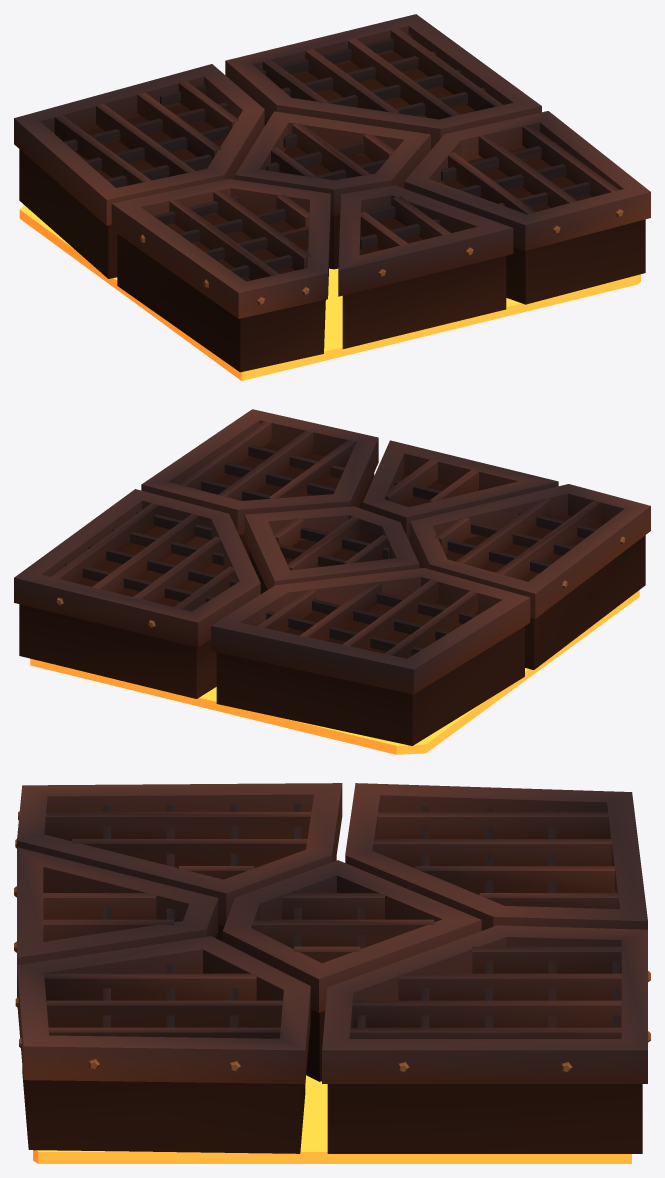
File: crumble_forge.glb
3 renders of one model, top to bottom at view 1: azimuth 30°, elevation 25°; view 2: azimuth 150°, elevation 25°; view 3: azimuth 270°, elevation 25°, orthographic. The views are drawn at different scales.
Parts seen in each view (by area): view 1: crumble_forge; view 2: crumble_forge; view 3: crumble_forge.
Boxes of the visible parts, x1,y1,x2,y2 form: crumble_forge: (14, 14, 650, 380); crumble_forge: (14, 409, 650, 754); crumble_forge: (14, 783, 650, 1163).
Size of the model in its own units: 2.4 by 0.5 by 2.4.
